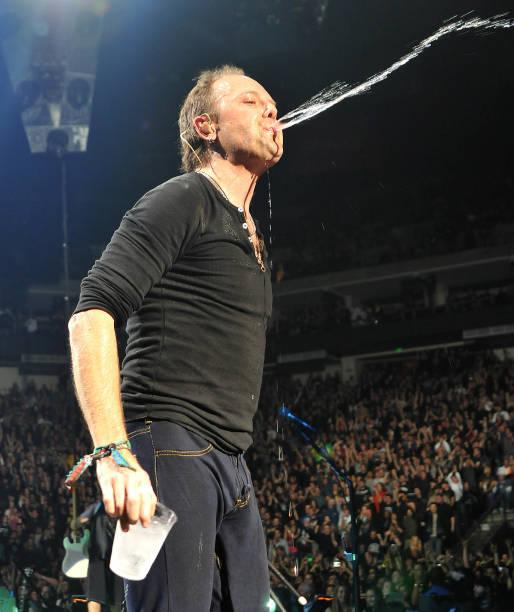Spitting: (153, 2, 357, 205)
